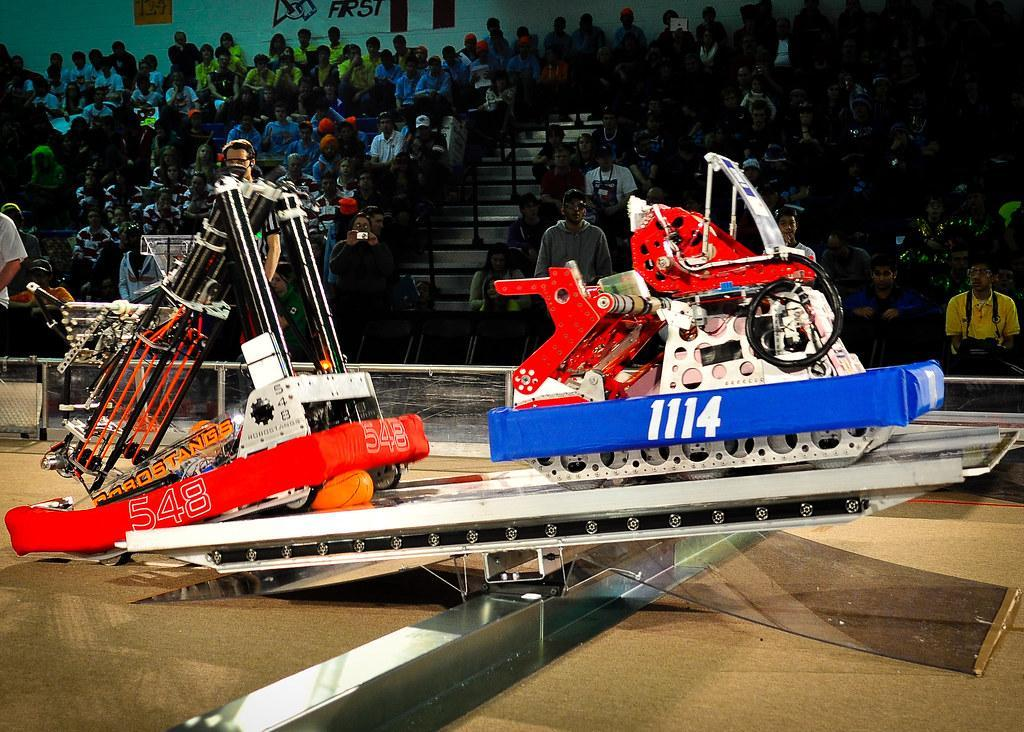robot: (5, 168, 442, 569), (462, 137, 960, 474)
